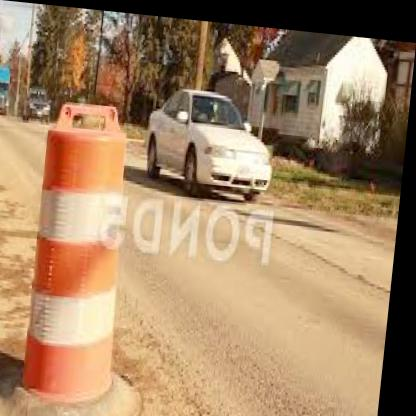obstacle: (21, 96, 140, 413)
